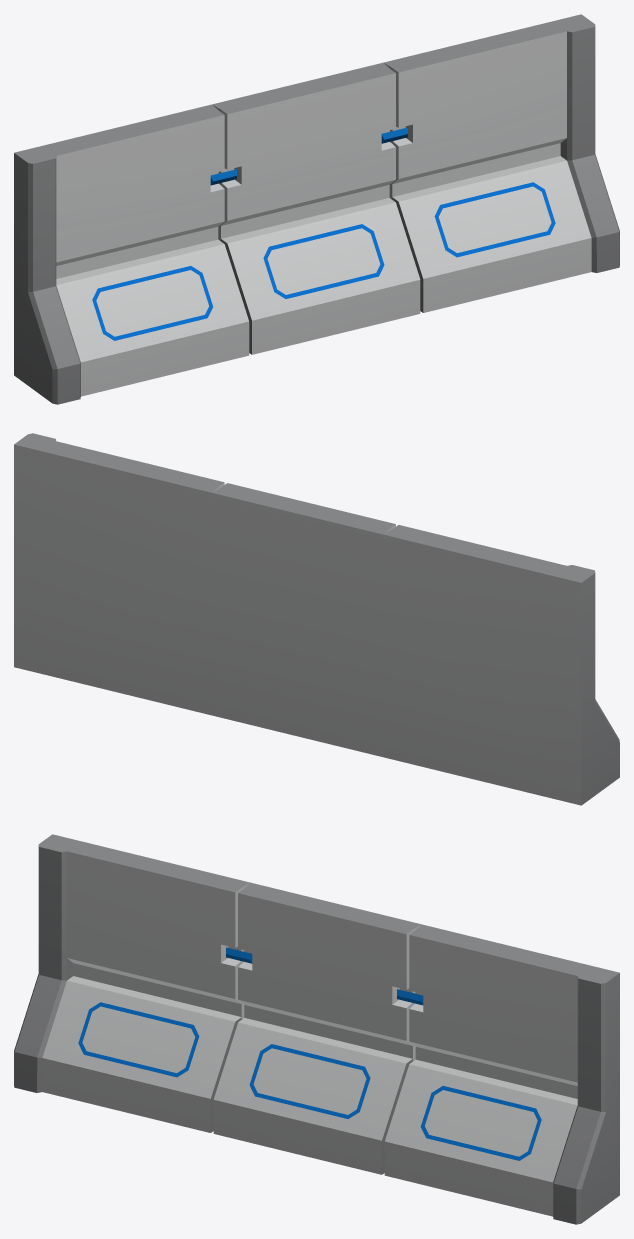
The model's file is Wall_type_A_027.fbx.
3 views of the same model, one above another, from view 1: azimuth 30°, elevation 25°; view 2: azimuth 150°, elevation 25°; view 3: azimuth 330°, elevation 25° (orthographic).
Parts seen in each view (by area): view 1: Wall_type_A_027; view 2: Wall_type_A_027; view 3: Wall_type_A_027.
Boxes of the visible parts, x1,y1,x2,y2 form: Wall_type_A_027: [14, 14, 619, 404]; Wall_type_A_027: [14, 433, 619, 805]; Wall_type_A_027: [14, 834, 619, 1224].
Size of the model in its own units: 400 by 50 by 150.
